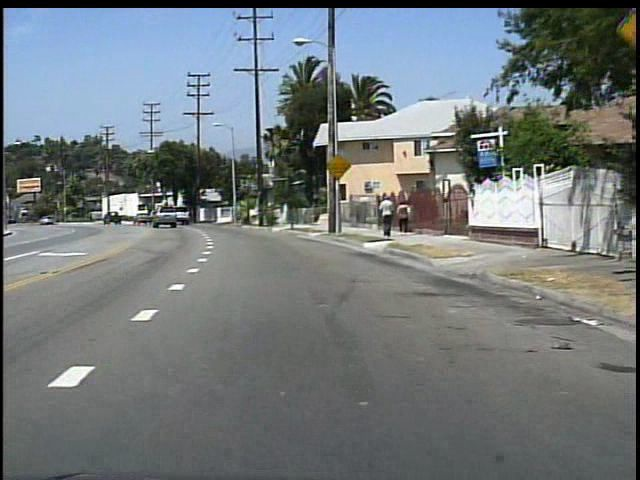person: (375, 192, 394, 238), (393, 198, 412, 235)
